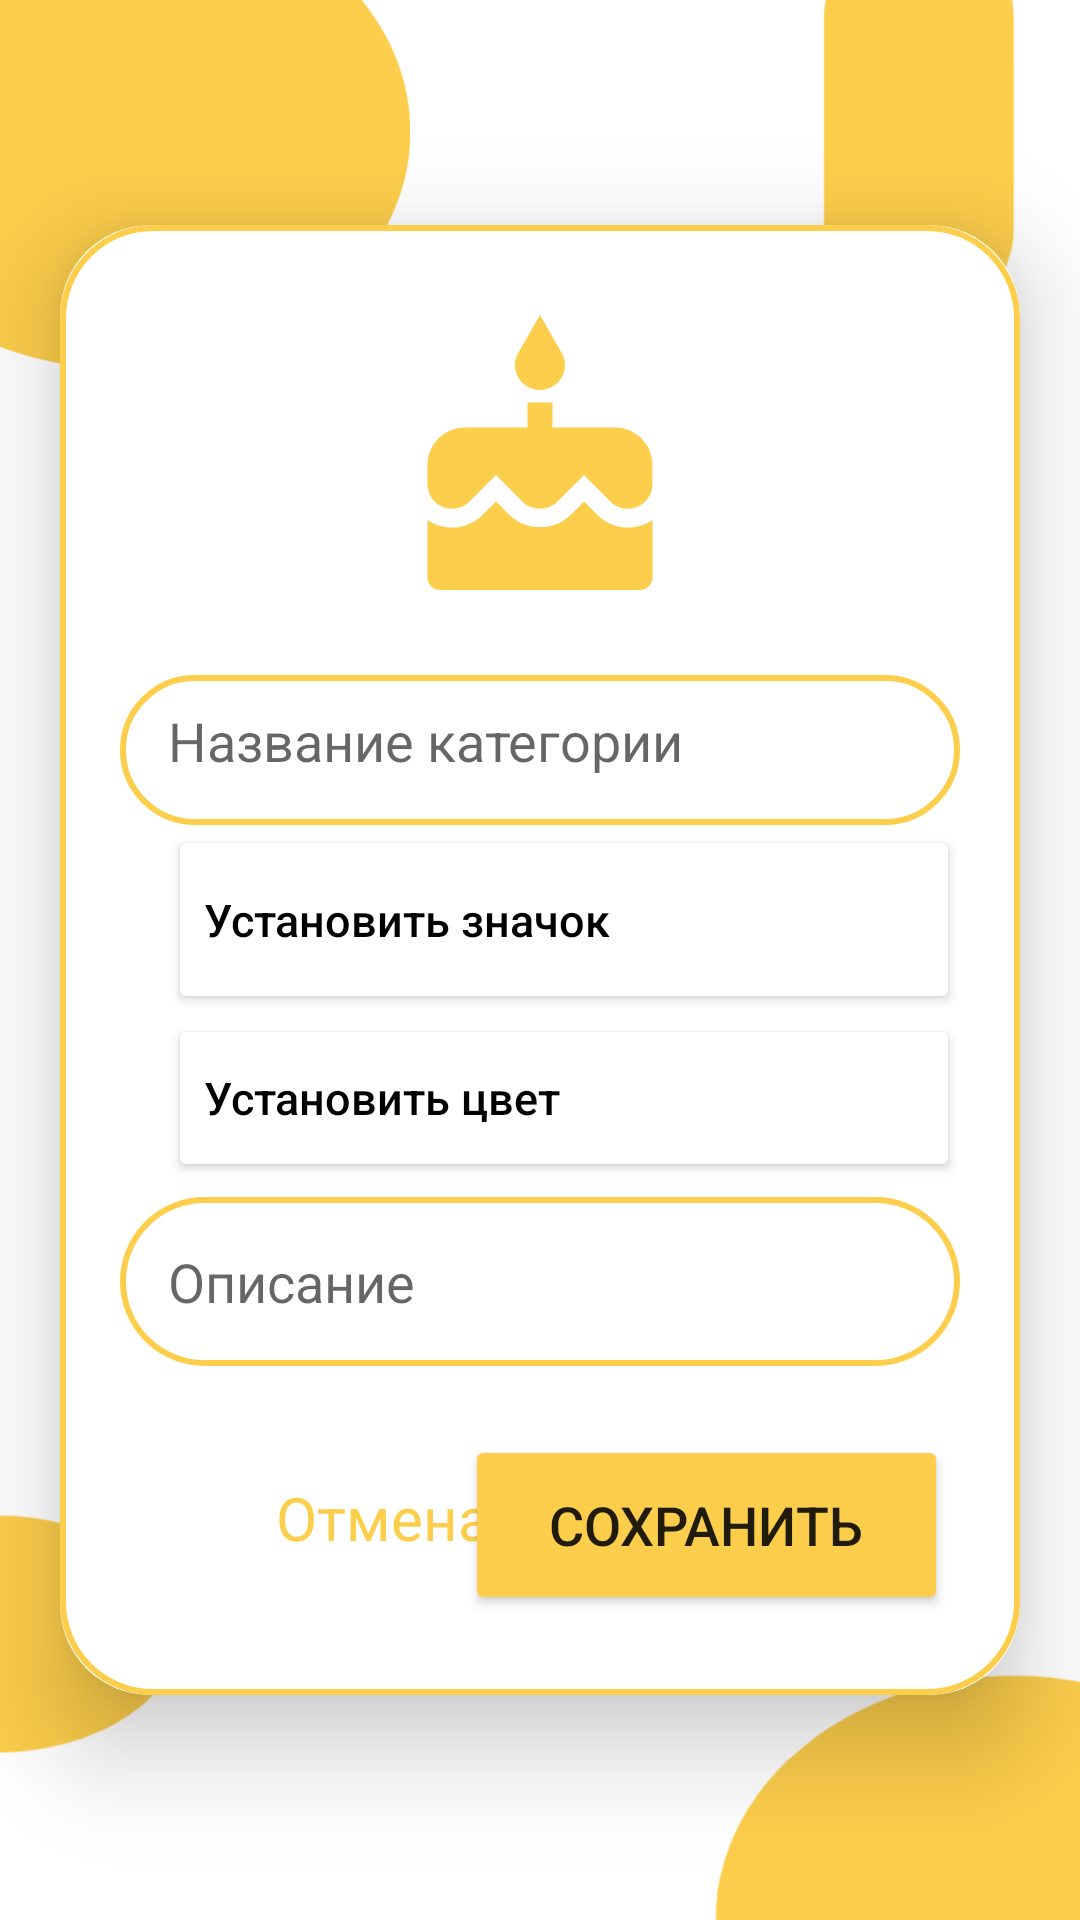

Screen size 1080x1920. Icon name, then its box in pixels as (x1=x1, y1=y1, x2=x2, y2=y2):
cake: (x1=427, y1=315, x2=653, y2=590)
